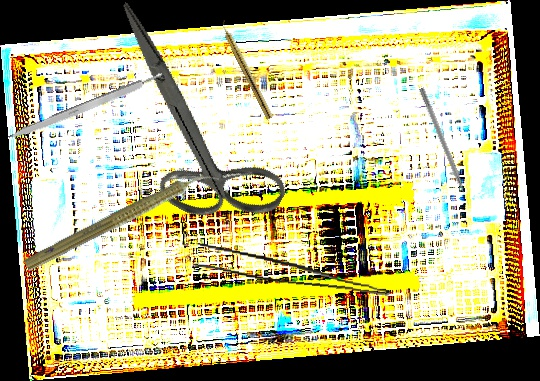Handpiece: (21, 160, 222, 280), (217, 18, 276, 121)
Iris Scissors: (51, 1, 330, 250)
Pusher: (417, 87, 472, 208)
Scalpel Handle: (6, 71, 166, 144)
Tissue Forceps: (191, 242, 394, 297)
